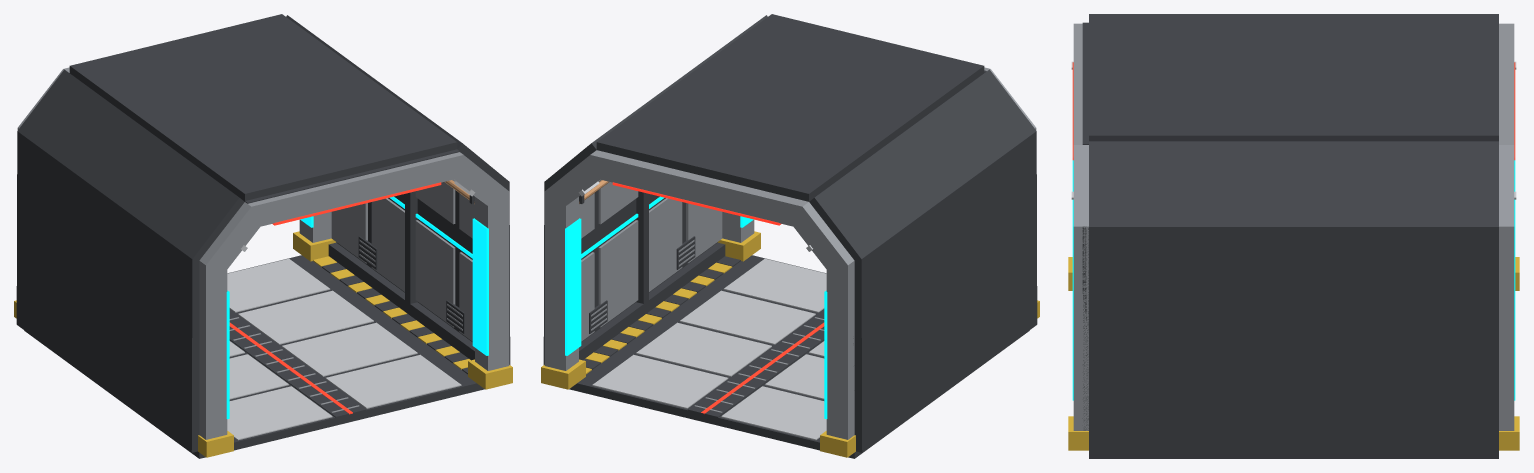
The model's file is FV_Corridor_Module.fbx.
3 renders of one model, left to right at view 1: azimuth 30°, elevation 25°; view 2: azimuth 150°, elevation 25°; view 3: azimuth 270°, elevation 25°, orthographic. The views are drawn at different scales.
Visible parts, largest first — view 1: Corridor_Wall_L_A, Corridor_Wall_L_B, Corridor_Frame, Corridor_Ceiling_2m, Corridor_Floor_2m, Corridor_Ceiling_B, Corridor_Floor_B, Corridor_Wall_2m, Corridor_Wall_R_B, Corridor_Frame_End; view 2: Corridor_Wall_L_B, Corridor_Wall_L_A, Corridor_Frame_End, Corridor_Floor_B, Corridor_Ceiling_B, Corridor_Ceiling_2m, Corridor_Floor_2m, Corridor_Wall_R_B, Corridor_Wall_2m, Corridor_Frame; view 3: Corridor_Wall_2m, Corridor_Wall_R_B, Corridor_Ceiling_2m, Corridor_Ceiling_B, Corridor_Frame_End, Corridor_Frame, Corridor_Floor_2m, Corridor_Floor_B.
Boxes of the visible parts, left/top/right/bottom form: Corridor_Wall_L_A: left=104, top=134, right=244, bottom=452; Corridor_Wall_L_B: left=16, top=69, right=151, bottom=388; Corridor_Frame: left=198, top=152, right=512, bottom=457; Corridor_Ceiling_2m: left=157, top=78, right=459, bottom=203; Corridor_Floor_2m: left=112, top=314, right=484, bottom=458; Corridor_Ceiling_B: left=69, top=14, right=368, bottom=136; Corridor_Floor_B: left=24, top=255, right=407, bottom=394; Corridor_Wall_2m: left=374, top=79, right=510, bottom=364; Corridor_Wall_R_B: left=286, top=15, right=417, bottom=314; Corridor_Frame_End: left=14, top=67, right=336, bottom=318; Corridor_Wall_L_B: left=809, top=134, right=949, bottom=452; Corridor_Wall_L_A: left=902, top=69, right=1037, bottom=388; Corridor_Frame_End: left=541, top=150, right=855, bottom=457; Corridor_Floor_B: left=569, top=314, right=941, bottom=458; Corridor_Ceiling_B: left=596, top=78, right=896, bottom=201; Corridor_Ceiling_2m: left=685, top=14, right=986, bottom=136; Corridor_Floor_2m: left=646, top=255, right=1029, bottom=394; Corridor_Wall_R_B: left=543, top=79, right=679, bottom=364; Corridor_Wall_2m: left=646, top=15, right=767, bottom=313; Corridor_Frame: left=717, top=67, right=1039, bottom=318; Corridor_Wall_2m: left=1082, top=141, right=1293, bottom=453; Corridor_Wall_R_B: left=1294, top=141, right=1498, bottom=453; Corridor_Ceiling_2m: left=1082, top=14, right=1293, bottom=144; Corridor_Ceiling_B: left=1294, top=14, right=1498, bottom=141; Corridor_Frame_End: left=1499, top=23, right=1519, bottom=450; Corridor_Frame: left=1068, top=23, right=1088, bottom=450; Corridor_Floor_2m: left=1089, top=454, right=1293, bottom=458; Corridor_Floor_B: left=1294, top=454, right=1498, bottom=458.
Size of the model in its own units: 4.2 by 3.2 by 4.4.
